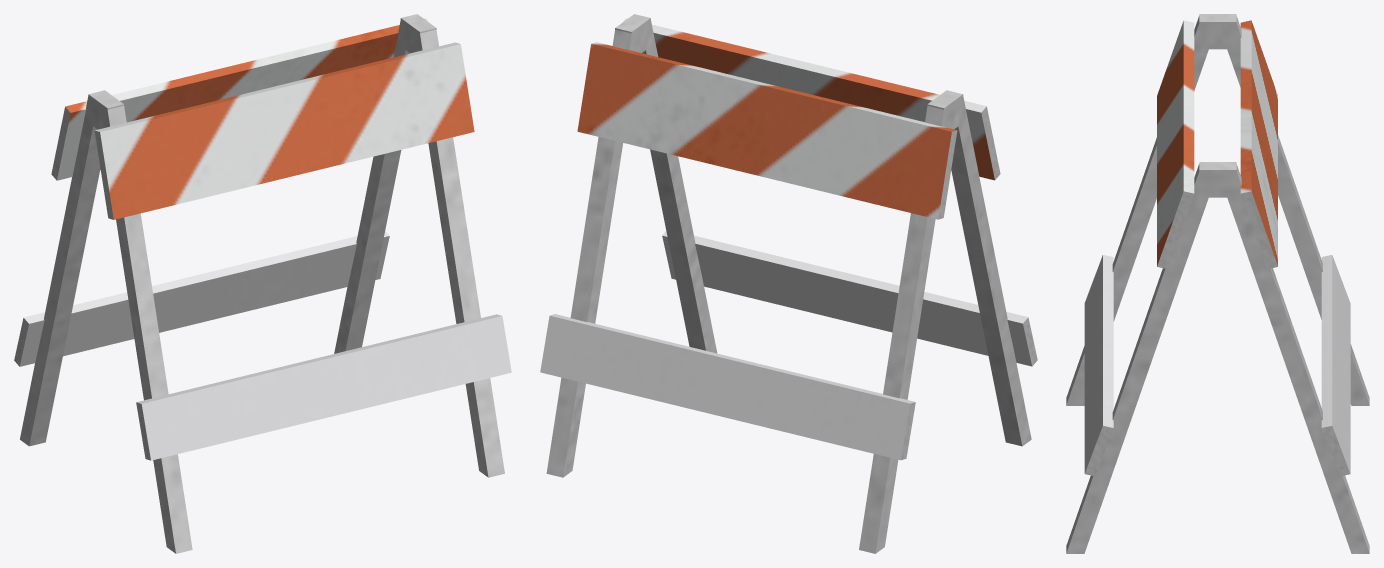
Rendered from A_Barricade_Safety.fbx.
The picture shows the model from 3 angles, left to right: view 1: azimuth 30°, elevation 25°; view 2: azimuth 150°, elevation 25°; view 3: azimuth 270°, elevation 25°; orthographic projection. The views are drawn at different scales.
Visible parts, largest first — view 1: A_Barricade_Safety; view 2: A_Barricade_Safety; view 3: A_Barricade_Safety.
Boxes of the visible parts, box(x1,y1,x2,y2) form: A_Barricade_Safety: box(14, 14, 511, 553); A_Barricade_Safety: box(540, 14, 1037, 553); A_Barricade_Safety: box(1066, 14, 1369, 553).
Bounding box in the file's own units: 87.86 × 92.04 × 65.91.
1 material, 1 textured.
